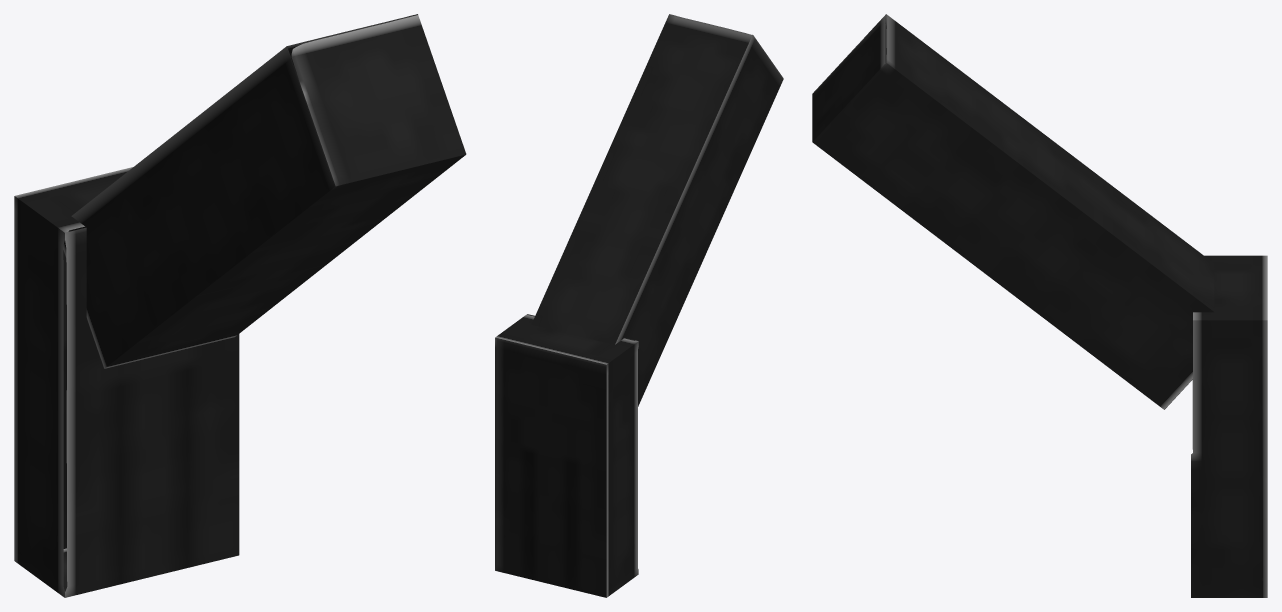
The model's file is manos.obj.
3 views of the same model, side by side, from view 1: azimuth 30°, elevation 25°; view 2: azimuth 150°, elevation 25°; view 3: azimuth 270°, elevation 25° (orthographic). The views are drawn at different scales.
Parts seen in each view (by area): view 1: Enderdragon_Malla; view 2: Enderdragon_Malla; view 3: Enderdragon_Malla.
Part boxes in pixels (x1,y1,x2,y2): Enderdragon_Malla: (14,14,466,597); Enderdragon_Malla: (495,14,783,597); Enderdragon_Malla: (812,14,1267,597).
Bounding box in the file's own units: 1.27 × 4.83 × 3.78.
Materials: 1 (1 with a texture image).
